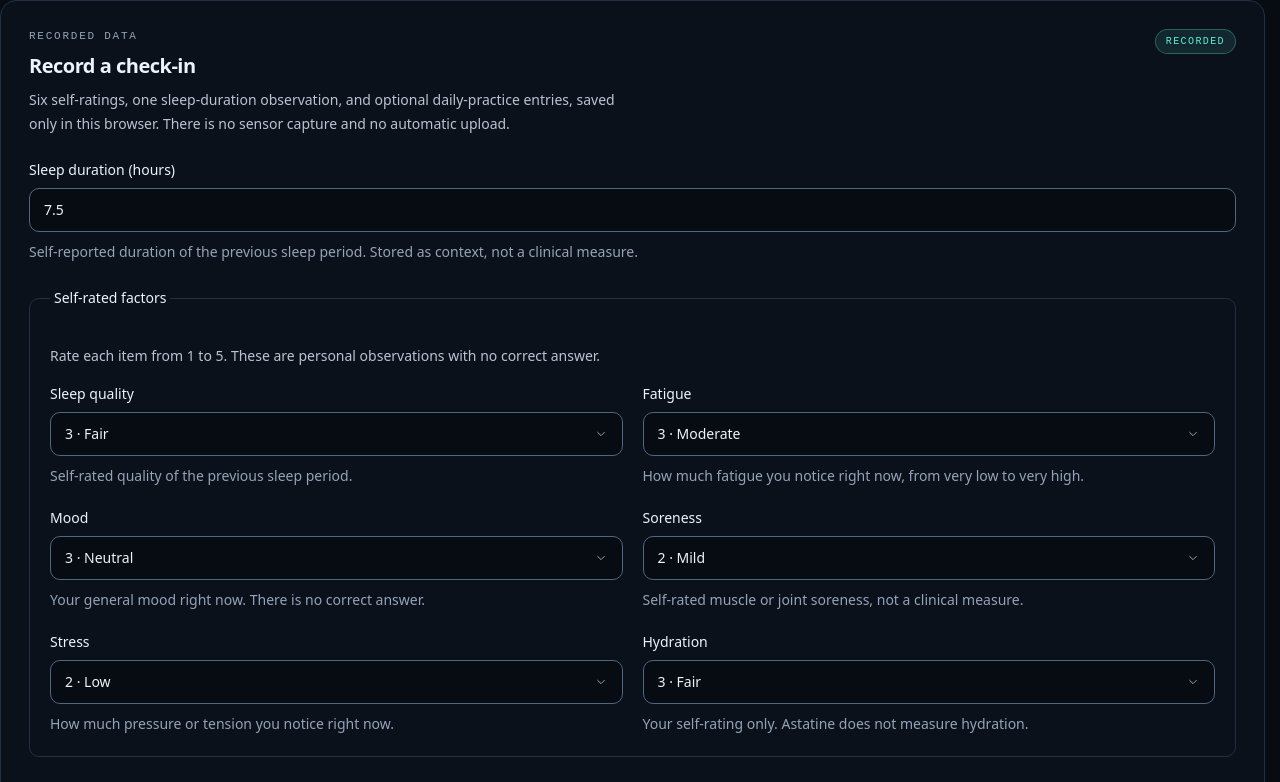
it: CheckInForm › blocks submission and explains the missing sleep duration
The image size is (1280, 782).
Clear the number field labelled "Sleep duration (hours)": (632, 210) [29,188,1236,232]
(page scrolled)
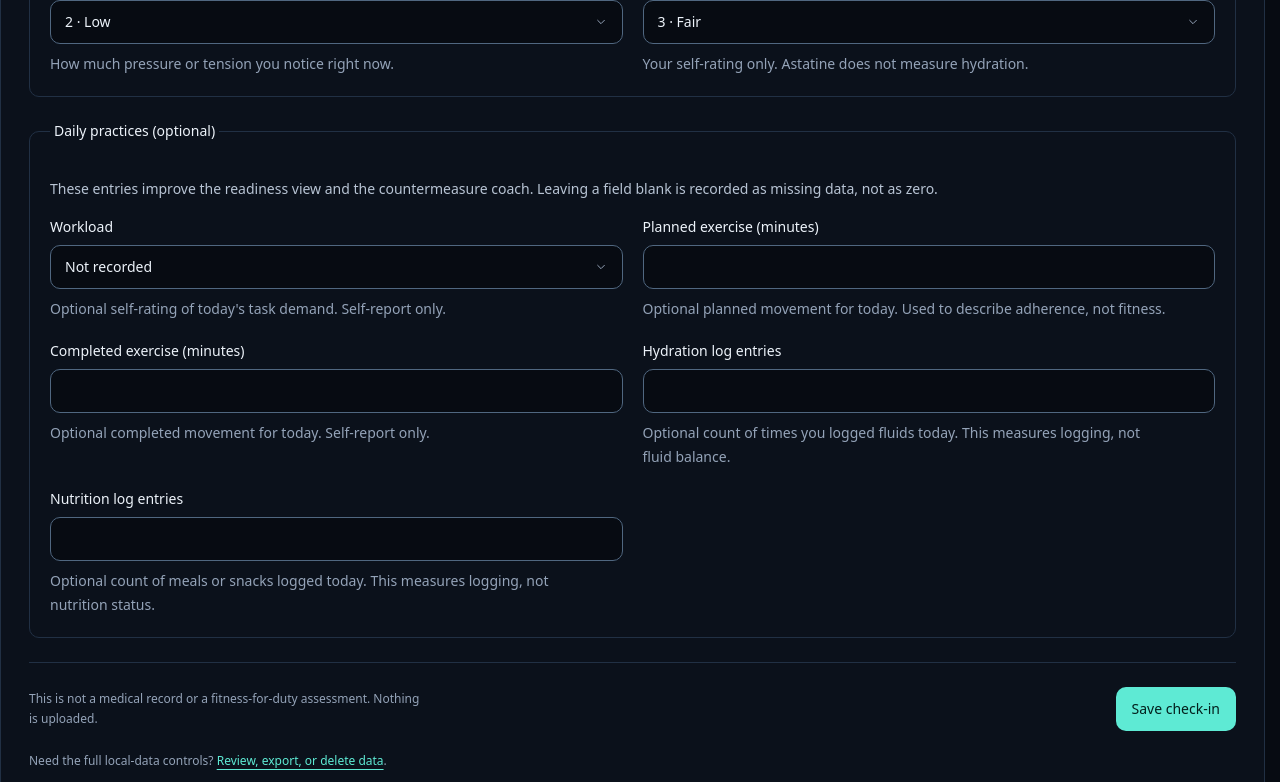
Click the button "Save check-in": (1176, 709) [1116,687,1236,731]
(page scrolled)
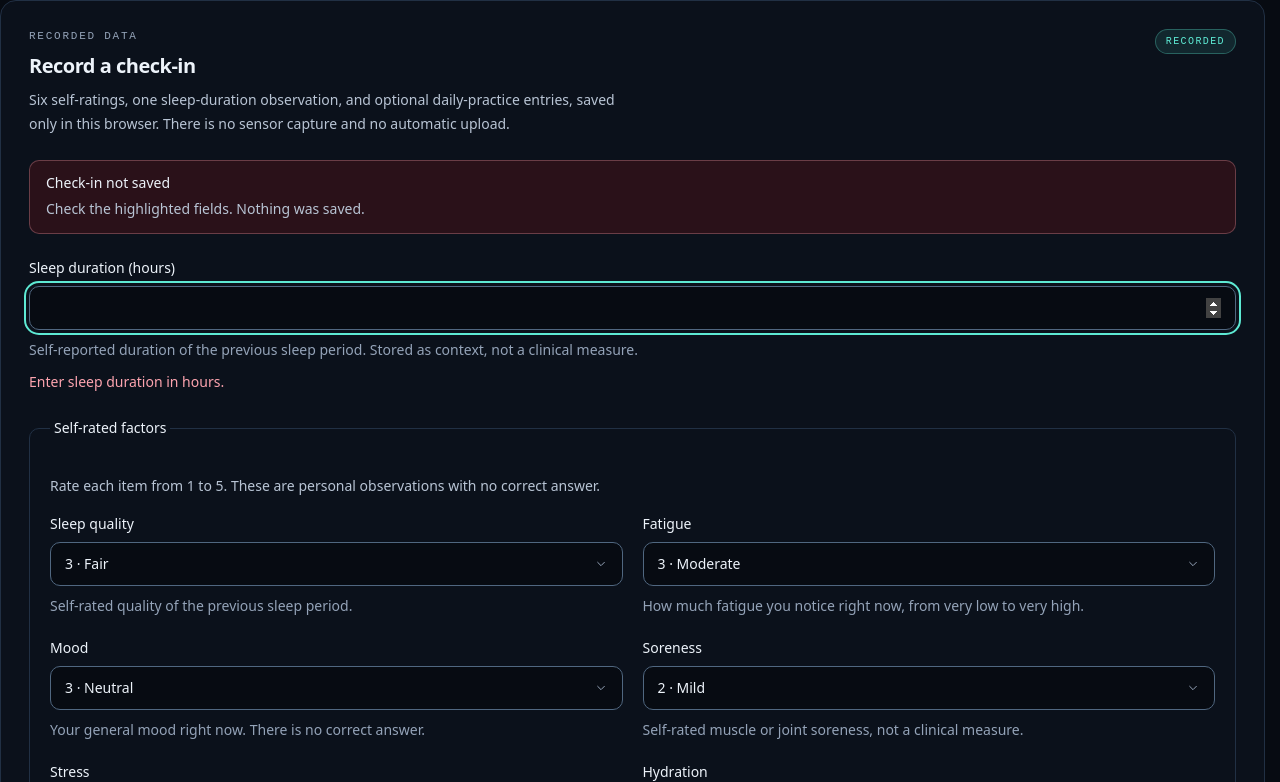
Now the text "Check the highlighted fields. Nothing was saved." is shown, box [46,199,365,218]
Now the text "Enter sleep duration in hours." is shown, box [29,372,224,391]
